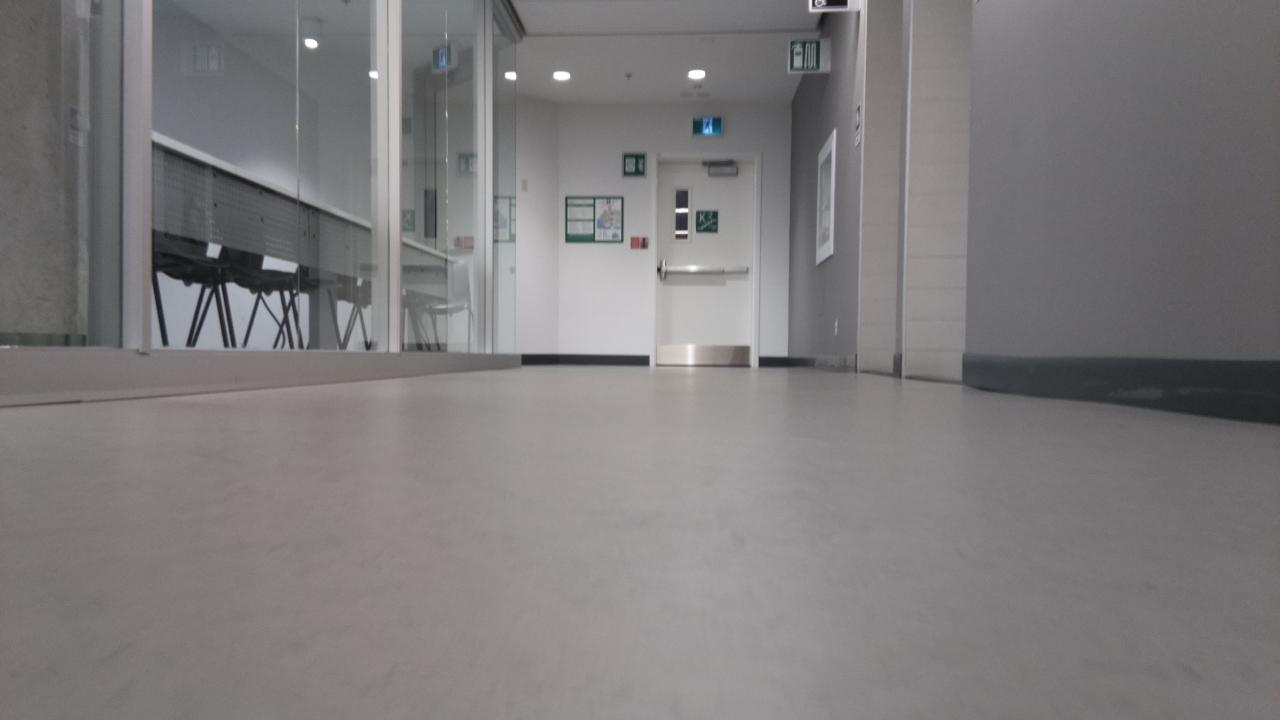door: (657, 162, 753, 366)
sign: (566, 196, 622, 242), (790, 40, 819, 71), (693, 117, 722, 134), (696, 211, 717, 232), (623, 155, 644, 175)
